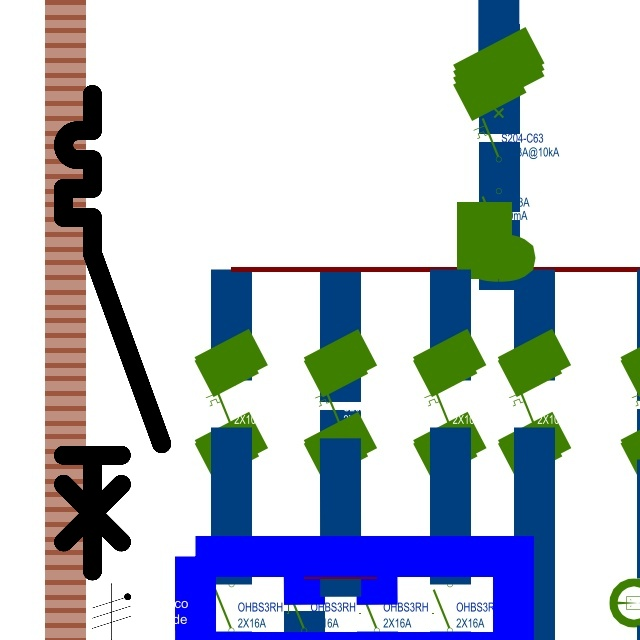interruptor_termomagnetico: (51, 82, 174, 583)
